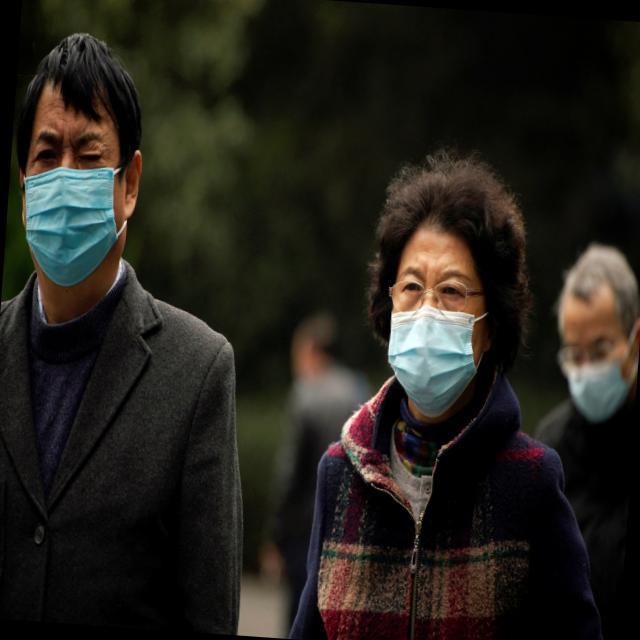Jacket: (291, 396, 632, 640)
